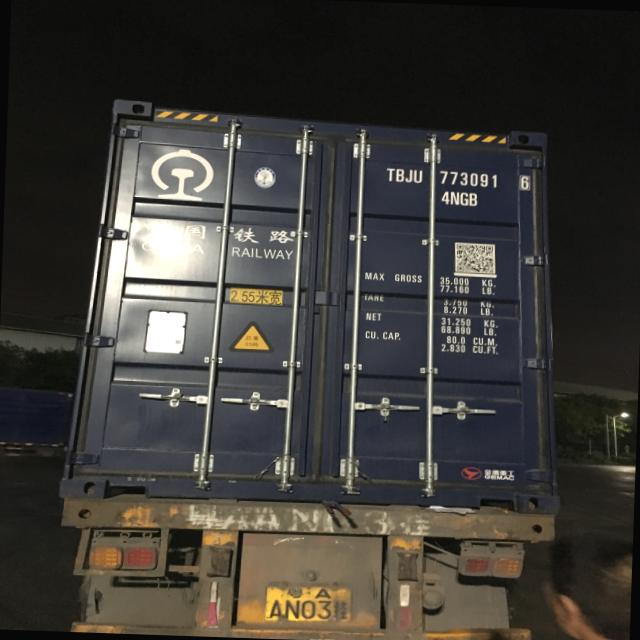seal: (374, 403, 392, 422)
